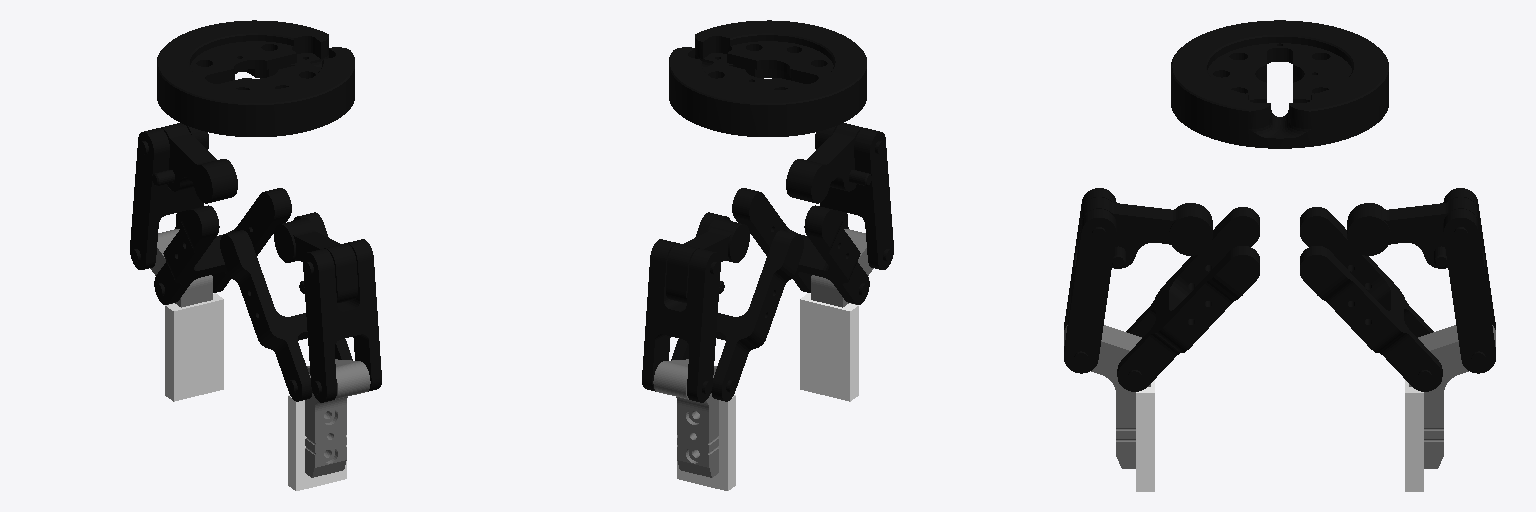
robot.urdf — panda:
<?xml version="1.0" ?>
<!-- =================================================================================== -->
<!-- |    This document was autogenerated by xacro from panda_arm_hand.urdf.xacro      | -->
<!-- |    EDITING THIS FILE BY HAND IS NOT RECOMMENDED                                 | -->
<!-- =================================================================================== -->
<robot name="panda" xmlns:xacro="http://www.ros.org/wiki/xacro">
  <link name="base_link">
    <visual>
      <geometry>
        <mesh filename="/franka/visual/link0.dae"/>
      </geometry>
      <material name="panda_white"/>
    </visual>
    <collision>
      <geometry>
        <mesh filename="/franka/visual/link0.dae"/>
      </geometry>
      <material name="panda_white"/>
    </collision>
  </link>
  <link name="panda_link1">
    <visual>
      <geometry>
        <mesh filename="/franka/visual/link1.dae"/>
      </geometry>
      <material name="panda_white"/>
    </visual>
    <collision>
      <geometry>
        <mesh filename="/franka/visual/link1.dae"/>
      </geometry>
      <material name="panda_white"/>
    </collision>
  </link>
  <joint name="panda_joint1" type="revolute">
    <safety_controller k_position="100.0" k_velocity="40.0" soft_lower_limit="-2.8973" soft_upper_limit="2.8973"/>
    <origin rpy="0 0 0" xyz="0 0 0.333"/>
    <parent link="base_link"/>
    <child link="panda_link1"/>
    <axis xyz="0 0 1"/>
    <limit effort="87" lower="-2.9671" upper="2.9671" velocity="2.1750"/>
  </joint>
  <link name="panda_link2">
    <visual>
      <geometry>
        <mesh filename="/franka/visual/link2.dae"/>
      </geometry>
      <material name="panda_white"/>
    </visual>
    <collision>
      <geometry>
        <mesh filename="/franka/visual/link2.dae"/>
      </geometry>
      <material name="panda_white"/>
    </collision>
  </link>
  <joint name="panda_joint2" type="revolute">
    <safety_controller k_position="100.0" k_velocity="40.0" soft_lower_limit="-1.7628" soft_upper_limit="1.7628"/>
    <origin rpy="-1.57079632679 0 0" xyz="0 0 0"/>
    <parent link="panda_link1"/>
    <child link="panda_link2"/>
    <axis xyz="0 0 1"/>
    <limit effort="87" lower="-1.8326" upper="1.8326" velocity="2.1750"/>
  </joint>
  <link name="panda_link3">
    <visual>
      <geometry>
        <mesh filename="/franka/visual/link3.dae"/>
      </geometry>
      <material name="panda_white"/>
    </visual>
    <collision>
      <geometry>
        <mesh filename="/franka/visual/link3.dae"/>
      </geometry>
      <material name="panda_white"/>
    </collision>
  </link>
  <joint name="panda_joint3" type="revolute">
    <safety_controller k_position="100.0" k_velocity="40.0" soft_lower_limit="-2.8973" soft_upper_limit="2.8973"/>
    <origin rpy="1.57079632679 0 0" xyz="0 -0.316 0"/>
    <parent link="panda_link2"/>
    <child link="panda_link3"/>
    <axis xyz="0 0 1"/>
    <limit effort="87" lower="-2.9671" upper="2.9671" velocity="2.1750"/>
  </joint>
  <link name="panda_link4">
    <visual>
      <geometry>
        <mesh filename="/franka/visual/link4.dae"/>
      </geometry>
      <material name="panda_white"/>
    </visual>
    <collision>
      <geometry>
        <mesh filename="/franka/visual/link4.dae"/>
      </geometry>
      <material name="panda_white"/>
    </collision>
  </link>
  <joint name="panda_joint4" type="revolute">
    <safety_controller k_position="100.0" k_velocity="40.0" soft_lower_limit="-3.0718" soft_upper_limit="-0.0698"/>
    <origin rpy="1.57079632679 0 0" xyz="0.0825 0 0"/>
    <parent link="panda_link3"/>
    <child link="panda_link4"/>
    <axis xyz="0 0 1"/>
    <limit effort="87" lower="-3.1416" upper="0.0" velocity="2.1750"/>
  </joint>
  <link name="panda_link5">
    <visual>
      <geometry>
        <mesh filename="/franka/visual/link5.dae"/>
      </geometry>
      <material name="panda_white"/>
    </visual>
    <collision>
      <geometry>
        <mesh filename="/franka/visual/link5.dae"/>
      </geometry>
      <material name="panda_white"/>
    </collision>
  </link>
  <joint name="panda_joint5" type="revolute">
    <safety_controller k_position="100.0" k_velocity="40.0" soft_lower_limit="-2.8973" soft_upper_limit="2.8973"/>
    <origin rpy="-1.57079632679 0 0" xyz="-0.0825 0.384 0"/>
    <parent link="panda_link4"/>
    <child link="panda_link5"/>
    <axis xyz="0 0 1"/>
    <limit effort="12" lower="-2.9671" upper="2.9671" velocity="2.6100"/>
  </joint>
  <link name="panda_link6">
    <visual>
      <geometry>
        <mesh filename="/franka/visual/link6.dae"/>
      </geometry>
#      <material name="panda_white"/>
    </visual>
    <collision>
      <geometry>
        <mesh filename="/franka/visual/link6.dae"/>
      </geometry>
      <material name="panda_white"/>
    </collision>
  </link>
  <joint name="panda_joint6" type="revolute">
    <safety_controller k_position="100.0" k_velocity="40.0" soft_lower_limit="-0.0175" soft_upper_limit="3.7525"/>
    <origin rpy="1.57079632679 0 0" xyz="0 0 0"/>
    <parent link="panda_link5"/>
    <child link="panda_link6"/>
    <axis xyz="0 0 1"/>
    <limit effort="12" lower="-0.0873" upper="3.8223" velocity="2.6100"/>
  </joint>
  <link name="panda_link7">
    <visual>
      <geometry>
        <mesh filename="/franka/visual/link7.dae"/>
      </geometry>
      <material name="panda_white"/>
    </visual>
    <collision>
      <geometry>
        <mesh filename="/franka/visual/link7.dae"/>
      </geometry>
      <material name="panda_white"/>
    </collision>
  </link>
  <joint name="panda_joint7" type="revolute">
    <safety_controller k_position="100.0" k_velocity="40.0" soft_lower_limit="-2.8973" soft_upper_limit="2.8973"/>
    <origin rpy="1.57079632679 0 0" xyz="0.088 0 0"/>
    <parent link="panda_link6"/>
    <child link="panda_link7"/>
    <axis xyz="0 0 1"/>
    <limit effort="12" lower="-2.9671" upper="2.9671" velocity="2.6100"/>
  </joint>
  <link name="panda_link8"/>

  <joint name="panda_joint8" type="fixed">
    <origin rpy="0 0 0" xyz="0 0 0.107"/>
    <parent link="panda_link7"/>
    <child link="panda_link8"/>
    <axis xyz="0 0 0"/>
  </joint>

  <joint name="panda_robotiq_coupling" type="fixed">
    <origin rpy="0 0 0" xyz="0 0 0"/>
    <parent link="panda_link8"/>
    <child link="robotiq_85_coupling_link"/>
    <axis xyz="0 0 0"/>
  </joint>

  <link name="robotiq_85_coupling_link">
    <visual>
      <geometry>
        <mesh filename="robotiq_2f_85/visual/robotiq_gripper_couplingvn.obj"/>
      </geometry>
      <material name="dark black"/>
    </visual>
    <collision>
      <geometry>
        <mesh filename="robotiq_2f_85/visual/robotiq_gripper_couplingvn.obj"/>
      </geometry>
    </collision>
  </link>

  <joint name="robotiq_85_base_joint" type="fixed">
    <parent link="robotiq_85_coupling_link"/>
    <child link="robotiq_85_base_link"/>
    <origin rpy="0 0 0" xyz="0 0 0"/>
  </joint>

  <link name="robotiq_85_base_link">
    <visual>
      <geometry>
        <mesh filename="robotiq_2f_85/visual/robotiq_arg2f_85_base_linkvn.obj"/>
      </geometry>
      <material name="Black"/>
    </visual>
    <collision>
      <geometry>
        <mesh filename="robotiq_2f_85/visual/robotiq_arg2f_85_base_linkvn.obj"/>
      </geometry>
    </collision>
      <inertial>
        <origin xyz="8.625E-08 -4.6583E-06 0.03145" rpy="0 0 0" />
        <mass value="0.22652" />
        <inertia ixx="0.00020005" ixy="-4.2442E-10" ixz="-2.9069E-10" iyy="0.00017832" iyz="-3.4402E-08" izz="0.00013478" />
      </inertial>
  </link>

  <joint name="robotiq_85_left_knuckle_joint" type="revolute">
    <parent link="robotiq_85_base_link"/>
    <child link="robotiq_85_left_knuckle_link"/>
    <axis xyz="1 0 0"/>
    <origin rpy="0 0.0 3.1415926" xyz="0 -0.0306011 0.054904"/>
    <limit lower="0" upper="0.81" velocity="100.0"/>
  </joint>
  <joint name="robotiq_85_right_knuckle_joint" type="revolute">
    <parent link="robotiq_85_base_link"/>
    <child link="robotiq_85_right_knuckle_link"/>
    <axis xyz="1 0 0"/>
    <origin rpy="0.0 0.0 0" xyz="0 0.0306011 0.054904"/>
    <limit lower="0" upper="0.81" velocity="100.0"/>
  </joint>

  <link name="robotiq_85_left_knuckle_link">
    <visual>
      <geometry>
        <mesh filename="robotiq_2f_85/visual/robotiq_arg2f_85_outer_knucklevn.obj"/>
      </geometry>
    <material name="Black"/>
    </visual>
    <collision>
      <geometry>
        <mesh filename="robotiq_2f_85/visual/robotiq_arg2f_85_outer_knucklevn.obj"/>
      </geometry>
    </collision>
    <!--<inertial>
        <origin xyz="-0.000200000000003065 0.0199435877845359 0.0292245259211331" rpy="0 0 0" />
        <mass value="0.00853198276973456" />
        <inertia ixx="2.89328108496468E-06" ixy="-1.57935047237397E-19" ixz="-1.93980378593255E-19" iyy="1.86719750325683E-06" iyz="-1.21858577871576E-06" izz="1.21905238907251E-06" />
    </inertial>-->
  </link>

  <link name="robotiq_85_right_knuckle_link">
    <visual>
      <geometry>
        <mesh filename="robotiq_2f_85/visual/robotiq_arg2f_85_outer_knucklevn.obj"/>
      </geometry>
      <material name="Black"/>
    </visual>
    <collision>
      <geometry>
        <mesh filename="robotiq_2f_85/visual/robotiq_arg2f_85_outer_knucklevn.obj"/>
      </geometry>
    </collision>
    <!--<inertial>
        <origin xyz="-0.000200000000003065 0.0199435877845359 0.0292245259211331" rpy="0 0 0" />
        <mass value="0.00853198276973456" />
        <inertia ixx="2.89328108496468E-06" ixy="-1.57935047237397E-19" ixz="-1.93980378593255E-19" iyy="1.86719750325683E-06" iyz="-1.21858577871576E-06" izz="1.21905238907251E-06" />
    </inertial>-->
  </link>


  <joint name="robotiq_85_left_finger_joint" type="fixed">
    <parent link="robotiq_85_left_knuckle_link"/>
    <child link="robotiq_85_left_finger_link"/>
    <origin rpy="0 0 0" xyz="0 0.0315 -0.0041"/>
    <limit lower="-3.14" upper="3.14" velocity="100.0"/>
  </joint>
  <joint name="robotiq_85_right_finger_joint" type="fixed">
    <parent link="robotiq_85_right_knuckle_link"/>
    <child link="robotiq_85_right_finger_link"/>
    <origin rpy="0 0 0" xyz="0 0.0315 -0.0041"/>
    <limit lower="-3.14" upper="3.14" velocity="100.0"/>
  </joint>

  <link name="robotiq_85_left_finger_link">
    <visual>
      <geometry>
        <mesh filename="robotiq_2f_85/visual/robotiq_arg2f_85_outer_fingervn.obj"/>
      </geometry>
      <material name="Black"/>
    </visual>
    <collision>
      <geometry>
        <mesh filename="robotiq_2f_85/visual/robotiq_arg2f_85_outer_fingervn.obj"/>
      </geometry>
    </collision>
    <!--<inertial>
      <mass value="0.027309"/>
      <origin xyz="0.0 0.0 0.0"/>
      <inertia ixx="0.000003" ixy="-0.000002" ixz="0.000000" iyx="-0.000002" iyy="0.000021" iyz="0.000000" izx="0.000000" izy="0.000000" izz="0.000020"/>
    </inertial>-->
  </link>
  <link name="robotiq_85_right_finger_link">
    <visual>
      <geometry>
        <mesh filename="robotiq_2f_85/visual/robotiq_arg2f_85_outer_fingervn.obj"/>
      </geometry>
      <material name="Black"/>
    </visual>
    <collision>
      <geometry>
        <mesh filename="robotiq_2f_85/visual/robotiq_arg2f_85_outer_fingervn.obj"/>
      </geometry>
    </collision>
    <!--<inertial>
      <mass value="0.027309"/>
      <origin xyz="0.0 0.0 0.0"/>
      <inertia ixx="0.000003" ixy="-0.000002" ixz="0.000000" iyx="-0.000002" iyy="0.000021" iyz="0.000000" izx="0.000000" izy="0.000000" izz="0.000020"/>
    </inertial>-->
  </link>

  <joint name="robotiq_85_left_inner_knuckle_joint" type="revolute">
    <parent link="robotiq_85_base_link"/>
    <child link="robotiq_85_left_inner_knuckle_link"/>
    <axis xyz="1 0 0"/>
    <origin rpy="0 0.0 0" xyz="0 0.0127 0.06142"/>
    <limit lower="0" upper="0.8757" velocity="100.0"/>
  </joint>


  <joint name="robotiq_85_right_inner_knuckle_joint" type="revolute">
    <parent link="robotiq_85_base_link"/>
    <child link="robotiq_85_right_inner_knuckle_link"/>
    <axis xyz="1 0 0"/>
    <origin rpy="0 0 3.1415926" xyz="0 -0.0127 0.06142"/>
    <limit lower="0" upper="0.8757" velocity="100.0"/>
  </joint>

  <link name="robotiq_85_left_inner_knuckle_link">
    <visual>
      <geometry>
        <mesh filename="robotiq_2f_85/visual/robotiq_arg2f_85_inner_knucklevn.obj"/>
      </geometry>
      <material name="Black"/>
    </visual>
    <collision>
      <geometry>
        <mesh filename="robotiq_2f_85/visual/robotiq_arg2f_85_inner_knucklevn.obj"/>
      </geometry>
    </collision>
    <!--<inertial>
      <mass value="0.029951"/>
      <origin xyz="0.0 0.0 0.0"/>
      <inertia ixx="0.000039" ixy="0.000000" ixz="0.000000" iyx="0.000000" iyy="0.000005" iyz="0.000000" izx="0.000000" izy="0.000000" izz="0.000035"/>
    </inertial>-->
  </link>

  <link name="robotiq_85_right_inner_knuckle_link">
    <visual>
     <geometry>
        <mesh filename="robotiq_2f_85/visual/robotiq_arg2f_85_inner_knucklevn.obj"/>
      </geometry>
      <material name="Black"/>
    </visual>
    <collision>
     <geometry>
        <mesh filename="robotiq_2f_85/visual/robotiq_arg2f_85_inner_knucklevn.obj"/>
      </geometry>
    </collision>
    <!--<inertial>
      <mass value="0.029951"/>
      <origin xyz="0.0 0.0 0.0"/>
      <inertia ixx="0.000039" ixy="0.000000" ixz="0.000000" iyx="0.000000" iyy="0.000005" iyz="0.000000" izx="0.000000" izy="0.000000" izz="0.000035"/>
    </inertial>-->
  </link>

  <joint name="robotiq_85_left_finger_tip_joint" type="revolute">
    <parent link="robotiq_85_left_finger_link"/>
    <child link="robotiq_85_left_finger_tip_link"/>
    <axis xyz="1 0 0"/>
    <origin rpy="0.0 0.0 0.0" xyz="0 0.0061 0.0471"/>
    <limit lower="0" upper="-0.8" velocity="100.0"/>
  </joint>
  <joint name="robotiq_85_right_finger_tip_joint" type="revolute">
    <parent link="robotiq_85_right_finger_link"/>
    <child link="robotiq_85_right_finger_tip_link"/>
    <axis xyz="1 0 0"/>
    <origin rpy="0.0 0.0 0.0" xyz="0 0.0061 0.0471"/>
    <limit lower="0" upper="-0.8" velocity="100.0"/>
  </joint>

  <link name="robotiq_85_left_finger_tip_link">
    <contact>
      <lateral_friction value="2.0"/>
      <spinning_friction value="0.1"/>
    </contact>
    <visual>
      <geometry>
        <mesh filename="robotiq_2f_85/visual/robotiq_arg2f_85_inner_fingervn.obj"/>
      </geometry>
      <material name="Gray"/>
    </visual>
    <collision>
      <geometry>
        <mesh filename="robotiq_2f_85/visual/robotiq_arg2f_85_inner_fingervn.obj"/>
      </geometry>
    </collision>
    <!--<inertial>
      <mass value="0.019555"/>
      <origin xyz="0.0 0.0 0.0"/>
      <inertia ixx="0.000002" ixy="0.000000" ixz="0.000000" iyx="0.000000" iyy="0.000005" iyz="0.000000" izx="0.000000" izy="0.000000" izz="0.000006"/>
    </inertial> -->
  </link>
  <link name="robotiq_85_right_finger_tip_link">
    <contact>
      <lateral_friction value="2.0"/>
      <spinning_friction value="0.1"/>
    </contact>
    <visual>
      <geometry>
        <mesh filename="robotiq_2f_85/visual/robotiq_arg2f_85_inner_fingervn.obj"/>
      </geometry>
      <material name="Gray"/>
    </visual>
    <collision>
      <geometry>
        <mesh filename="robotiq_2f_85/visual/robotiq_arg2f_85_inner_fingervn.obj"/>
      </geometry>
    </collision>
    <!--<inertial>
      <mass value="0.019555"/>
      <origin xyz="0.0 0.0 0.0"/>
      <inertia ixx="0.000002" ixy="0.000000" ixz="0.000000" iyx="0.000000" iyy="0.000005" iyz="0.000000" izx="0.000000" izy="0.000000" izz="0.000006"/>
    </inertial>-->
  </link>

    <!--
    <joint name="robotiq_2f_85_left_inner_finger_tip_link_joint" type="revolute">
      <parent link="robotiq_85_left_inner_knuckle_link"/>
      <child link="robotiq_85_left_finger_tip_link"/>
      <axis xyz="0 0 1"/>
      <origin xyz="0.043 -0.037 -0.0" rpy="0.0 0.0 0.0"/>
      <limit lower="-3.14" upper="3.14" velocity="100.0" effort="0.1"/>
      <mimic joint= multiplier="-1"/>
    </joint>-->

    <joint name="robotiq_2f_85_left_inner_finger_pad_joint" type="fixed">
      <origin xyz="0 -0.0220203446692936 0.03242" rpy="0 0 0"/>
      <parent link="robotiq_85_left_finger_tip_link" />
      <child link="robotiq_2f_85_left_inner_finger_pad" />
      <axis xyz="0 0 1" />
    </joint>

    <joint name="robotiq_2f_85_right_inner_finger_pad_joint" type="fixed">
      <origin xyz="0 -0.0220203446692936 0.03242" rpy="0 0 0"/>
      <parent link="robotiq_85_right_finger_tip_link" />
      <child link="robotiq_2f_85_right_inner_finger_pad" />
      <axis xyz="0 0 1" />
    </joint>

    <link name="robotiq_2f_85_left_inner_finger_pad">
      <visual>
        <origin xyz="0 0 0" rpy="0 0 0" />
        <geometry>
          <box size="0.022 0.00635 0.0375"/>
        </geometry>
        <material name="">
          <color rgba="0.9 0.9 0.9 1" />
        </material>
      </visual>
      <collision>
        <origin xyz="0 0 0" rpy="0 0 0" />
        <geometry>
           <box size="0.022 0.00635 0.0375"/>
        </geometry>
        <material name="">
          <color rgba="0.9 0.0 0.0 1" />
        </material>
      </collision>
    </link>


    <link name="robotiq_2f_85_right_inner_finger_pad">
      <visual>
        <origin xyz="0 0 0" rpy="0 0 0" />
        <geometry>
          <box size="0.022 0.00635 0.0375"/>
        </geometry>
        <material name="">
          <color rgba="1 1 1 1" />
        </material>
      </visual>
      <collision>
        <origin xyz="0 0 0" rpy="0 0 0" />
        <geometry>
           <box size="0.022 0.00635 0.0375"/>
        </geometry>
        <material name="">
          <color rgba="1 1 1 1" />
        </material>
      </collision>
    </link>


<material name="panda_white">
    <color rgba="1. 1. 1. 1."/>
  </material>
  <material name="dark black">
    <color rgba="0.1 0.1 0.1 1.0"/>
  </material>
  <material name="Black">
    <color rgba="0.1 0.1 0.1 1.0"/>
  </material>
  <material name="Gray">
    <color rgba="0.5 0.5 0.5 1.0"/>
  </material>
</robot>

--- Facts derived from the render (not from the file) ---
3 views of the same robot in one strip: view 1: azimuth 30°, elevation 25°; view 2: azimuth 150°, elevation 25°; view 3: azimuth 270°, elevation 25° (orthographic).
Model panda with 21 links and 20 joints (13 revolute, 7 fixed), rooted at base_link, posed all joints at 0.
Visible links, largest first — view 1: robotiq_85_coupling_link, robotiq_85_right_finger_link, robotiq_85_right_inner_knuckle_link, robotiq_85_left_inner_knuckle_link, robotiq_2f_85_left_inner_finger_pad, robotiq_85_left_finger_link, robotiq_85_right_finger_tip_link, robotiq_85_left_knuckle_link, robotiq_85_right_knuckle_link, robotiq_2f_85_right_inner_finger_pad, robotiq_85_left_finger_tip_link; view 2: robotiq_85_coupling_link, robotiq_85_left_finger_link, robotiq_85_left_inner_knuckle_link, robotiq_85_right_inner_knuckle_link, robotiq_2f_85_right_inner_finger_pad, robotiq_85_right_finger_link, robotiq_85_left_finger_tip_link, robotiq_85_right_knuckle_link, robotiq_85_left_knuckle_link, robotiq_2f_85_left_inner_finger_pad, robotiq_85_right_finger_tip_link; view 3: robotiq_85_coupling_link, robotiq_85_left_inner_knuckle_link, robotiq_85_right_inner_knuckle_link, robotiq_85_right_finger_link, robotiq_85_left_finger_link, robotiq_85_left_knuckle_link, robotiq_85_right_knuckle_link, robotiq_85_left_finger_tip_link, robotiq_85_right_finger_tip_link, robotiq_2f_85_left_inner_finger_pad, robotiq_2f_85_right_inner_finger_pad.
Boxes of the visible links, x1,y1,x2,y2 form: robotiq_85_coupling_link: [157, 20, 354, 136]; robotiq_85_right_finger_link: [303, 239, 381, 402]; robotiq_85_right_inner_knuckle_link: [154, 188, 291, 304]; robotiq_85_left_inner_knuckle_link: [220, 212, 352, 401]; robotiq_2f_85_left_inner_finger_pad: [165, 293, 223, 401]; robotiq_85_left_finger_link: [130, 125, 208, 269]; robotiq_85_right_finger_tip_link: [305, 359, 370, 477]; robotiq_85_left_knuckle_link: [152, 123, 237, 203]; robotiq_85_right_knuckle_link: [274, 218, 357, 302]; robotiq_2f_85_right_inner_finger_pad: [288, 395, 346, 490]; robotiq_85_left_finger_tip_link: [150, 229, 212, 307]; robotiq_85_coupling_link: [669, 20, 866, 136]; robotiq_85_left_finger_link: [642, 239, 720, 402]; robotiq_85_left_inner_knuckle_link: [732, 188, 869, 304]; robotiq_85_right_inner_knuckle_link: [671, 212, 803, 401]; robotiq_2f_85_right_inner_finger_pad: [800, 293, 858, 401]; robotiq_85_right_finger_link: [815, 125, 893, 269]; robotiq_85_left_finger_tip_link: [653, 359, 718, 477]; robotiq_85_right_knuckle_link: [786, 123, 871, 203]; robotiq_85_left_knuckle_link: [666, 218, 749, 302]; robotiq_2f_85_left_inner_finger_pad: [677, 395, 735, 490]; robotiq_85_right_finger_tip_link: [811, 229, 873, 307]; robotiq_85_coupling_link: [1171, 20, 1388, 148]; robotiq_85_left_inner_knuckle_link: [1117, 207, 1259, 391]; robotiq_85_right_inner_knuckle_link: [1300, 207, 1442, 391]; robotiq_85_right_finger_link: [1064, 188, 1116, 373]; robotiq_85_left_finger_link: [1443, 188, 1495, 373]; robotiq_85_left_knuckle_link: [1347, 197, 1481, 268]; robotiq_85_right_knuckle_link: [1078, 197, 1212, 268]; robotiq_85_left_finger_tip_link: [1409, 325, 1495, 468]; robotiq_85_right_finger_tip_link: [1064, 325, 1150, 468]; robotiq_2f_85_left_inner_finger_pad: [1405, 380, 1423, 491]; robotiq_2f_85_right_inner_finger_pad: [1136, 380, 1154, 491].
Size in the robot's own frame: 0.075 by 0.1484 by 0.1561 metres.
9 mesh visuals loaded from 6 distinct referenced files (5 OBJ); not drawn: 1 (reference not matched to a file when rendering), 8 (reference in a form the renderer does not follow; not among the files counted above).